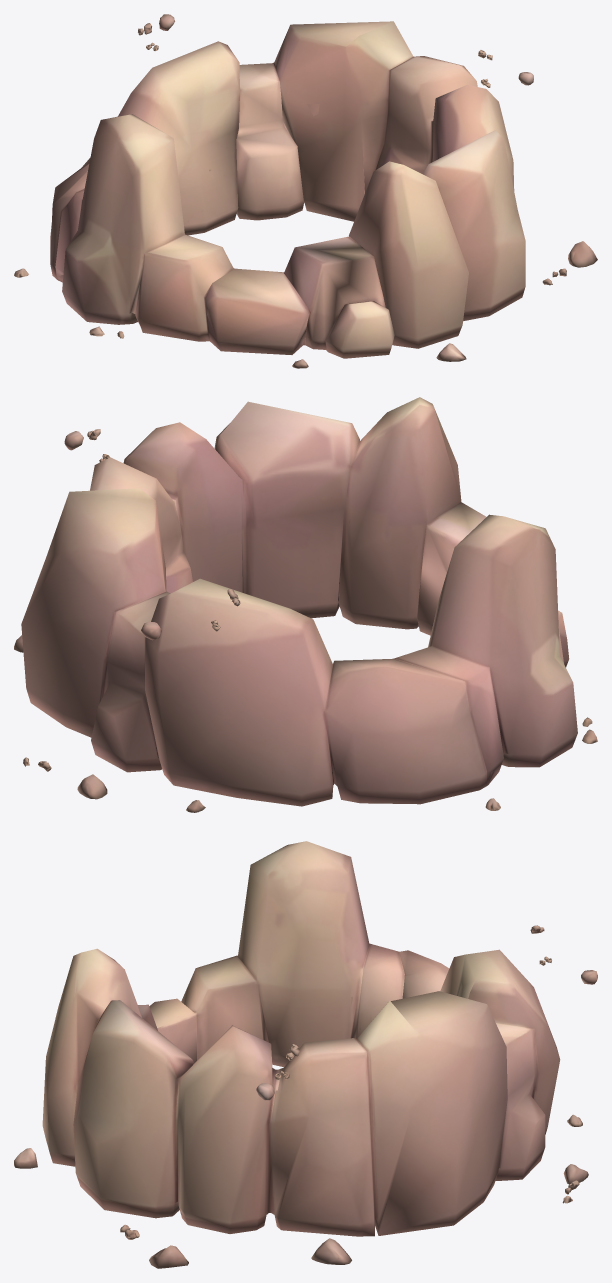
File: anillo_piedra.glb
3 views of the same model, one above another, from view 1: azimuth 30°, elevation 25°; view 2: azimuth 150°, elevation 25°; view 3: azimuth 270°, elevation 25° (orthographic). The views are drawn at different scales.
Parts seen in each view (by area): view 1: tripo_node_fcc8d174-07cb-4eca-9430-e8a7782fd37e; view 2: tripo_node_fcc8d174-07cb-4eca-9430-e8a7782fd37e; view 3: tripo_node_fcc8d174-07cb-4eca-9430-e8a7782fd37e.
Part boxes in pixels (bbox=[...]): tripo_node_fcc8d174-07cb-4eca-9430-e8a7782fd37e: bbox=[14, 14, 597, 368]; tripo_node_fcc8d174-07cb-4eca-9430-e8a7782fd37e: bbox=[14, 397, 597, 812]; tripo_node_fcc8d174-07cb-4eca-9430-e8a7782fd37e: bbox=[14, 841, 597, 1268].
Size of the model in its own units: 0.998 by 0.4082 by 0.998.
1 material, 1 textured.
